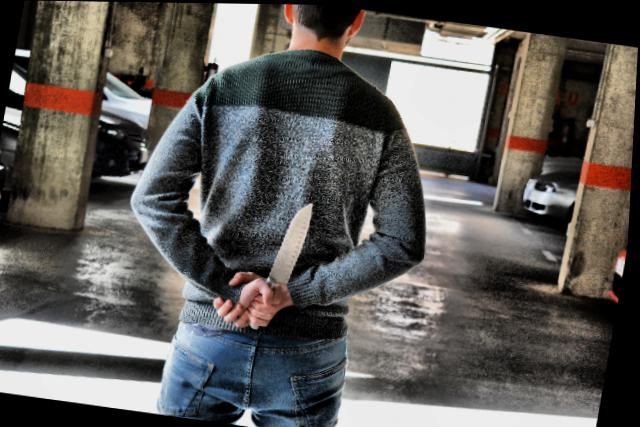knife: (247, 190, 320, 335)
